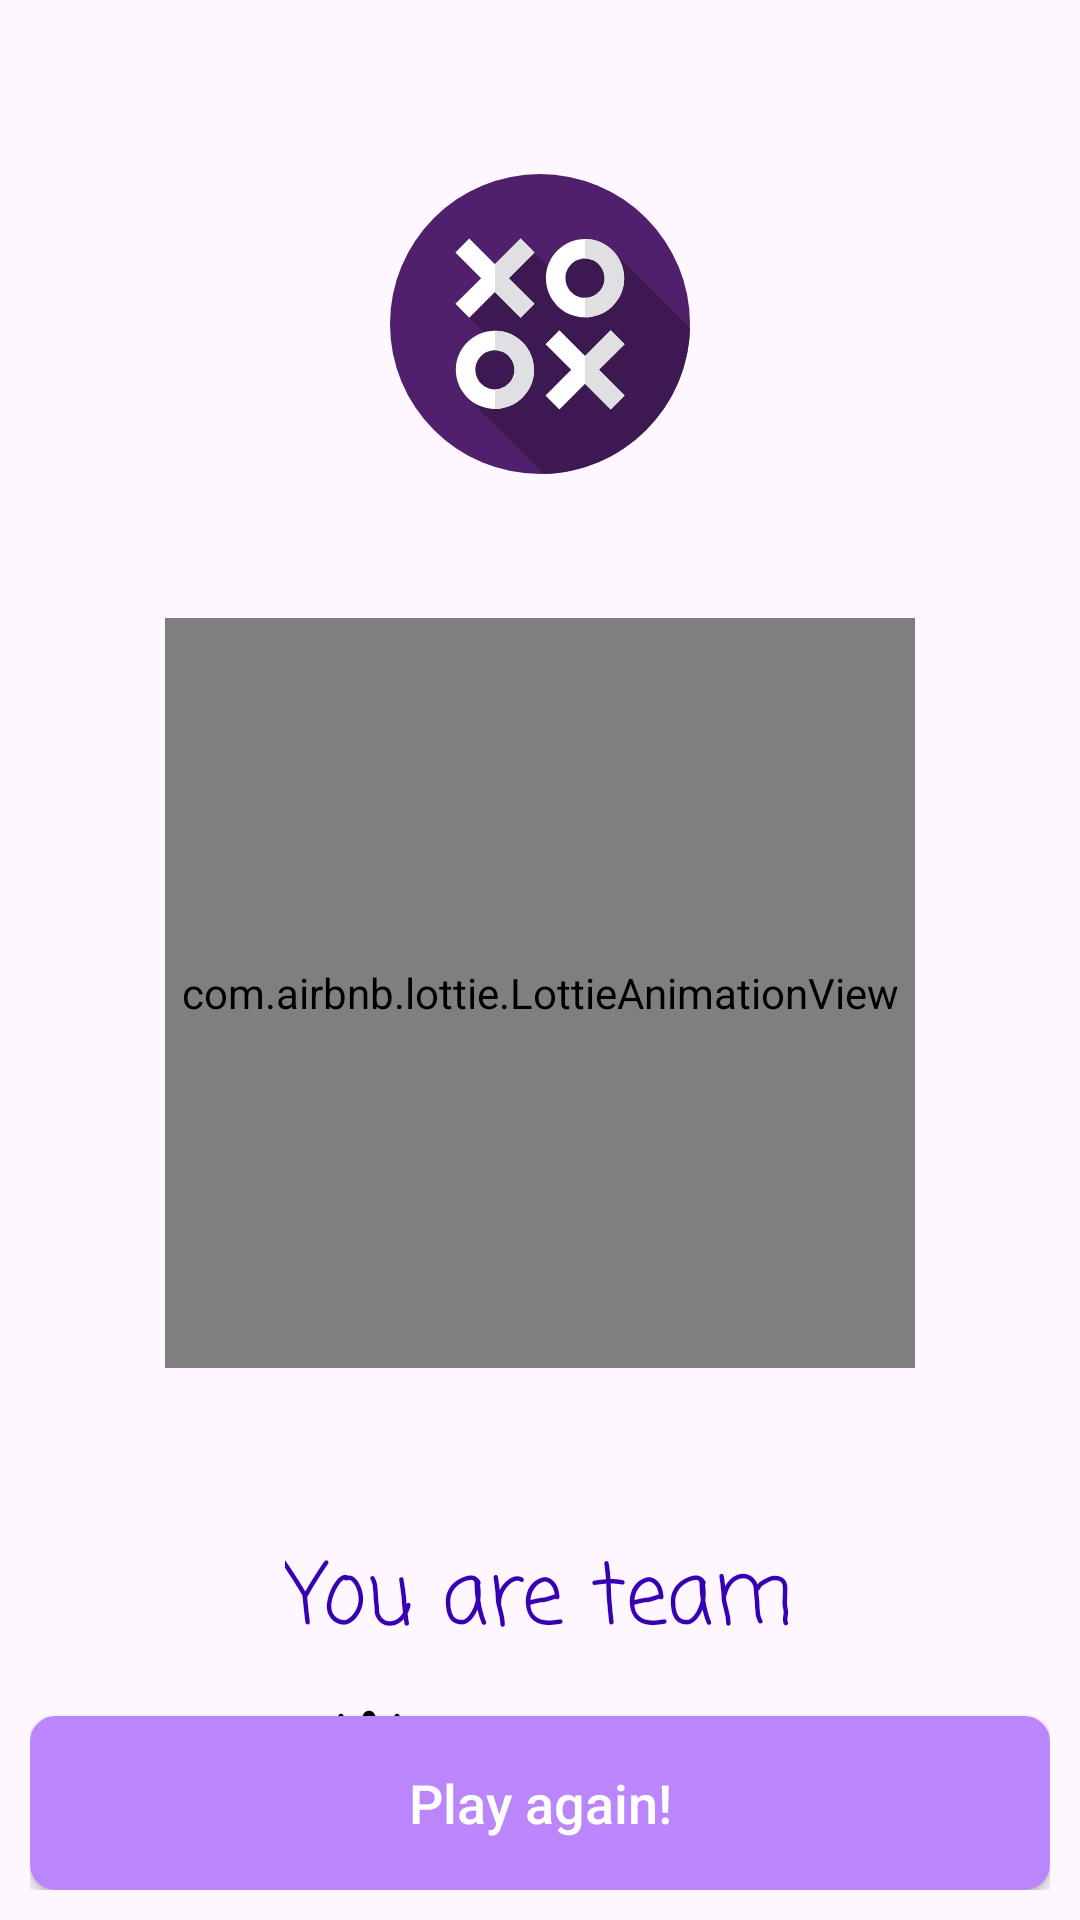

Icon bounding boxes for this 1080px×1920px phone screenshot, format [x1,y1,x2,y2]:
tic tac toe: [390,174,690,474]
